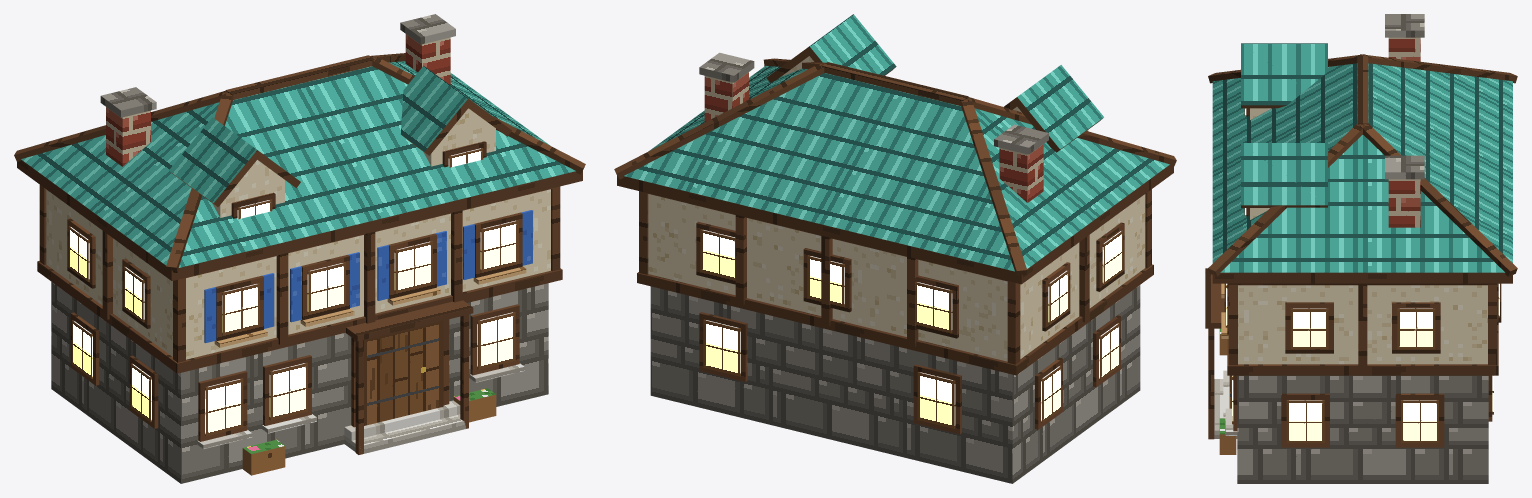
File: house_large.glb
3 views of the same model, side by side, from view 1: azimuth 30°, elevation 25°; view 2: azimuth 150°, elevation 25°; view 3: azimuth 270°, elevation 25° (orthographic). The views are drawn at different scales.
Parts seen in each view (by area): view 1: house_large; view 2: house_large; view 3: house_large.
Boxes of the visible parts, x1,y1,x2,y2 form: house_large: (14,14,585,483); house_large: (614,14,1176,483); house_large: (1205,14,1517,483).
Size of the model in its own units: 6.17 by 4.45 by 4.1.
12 materials, 12 textured.
